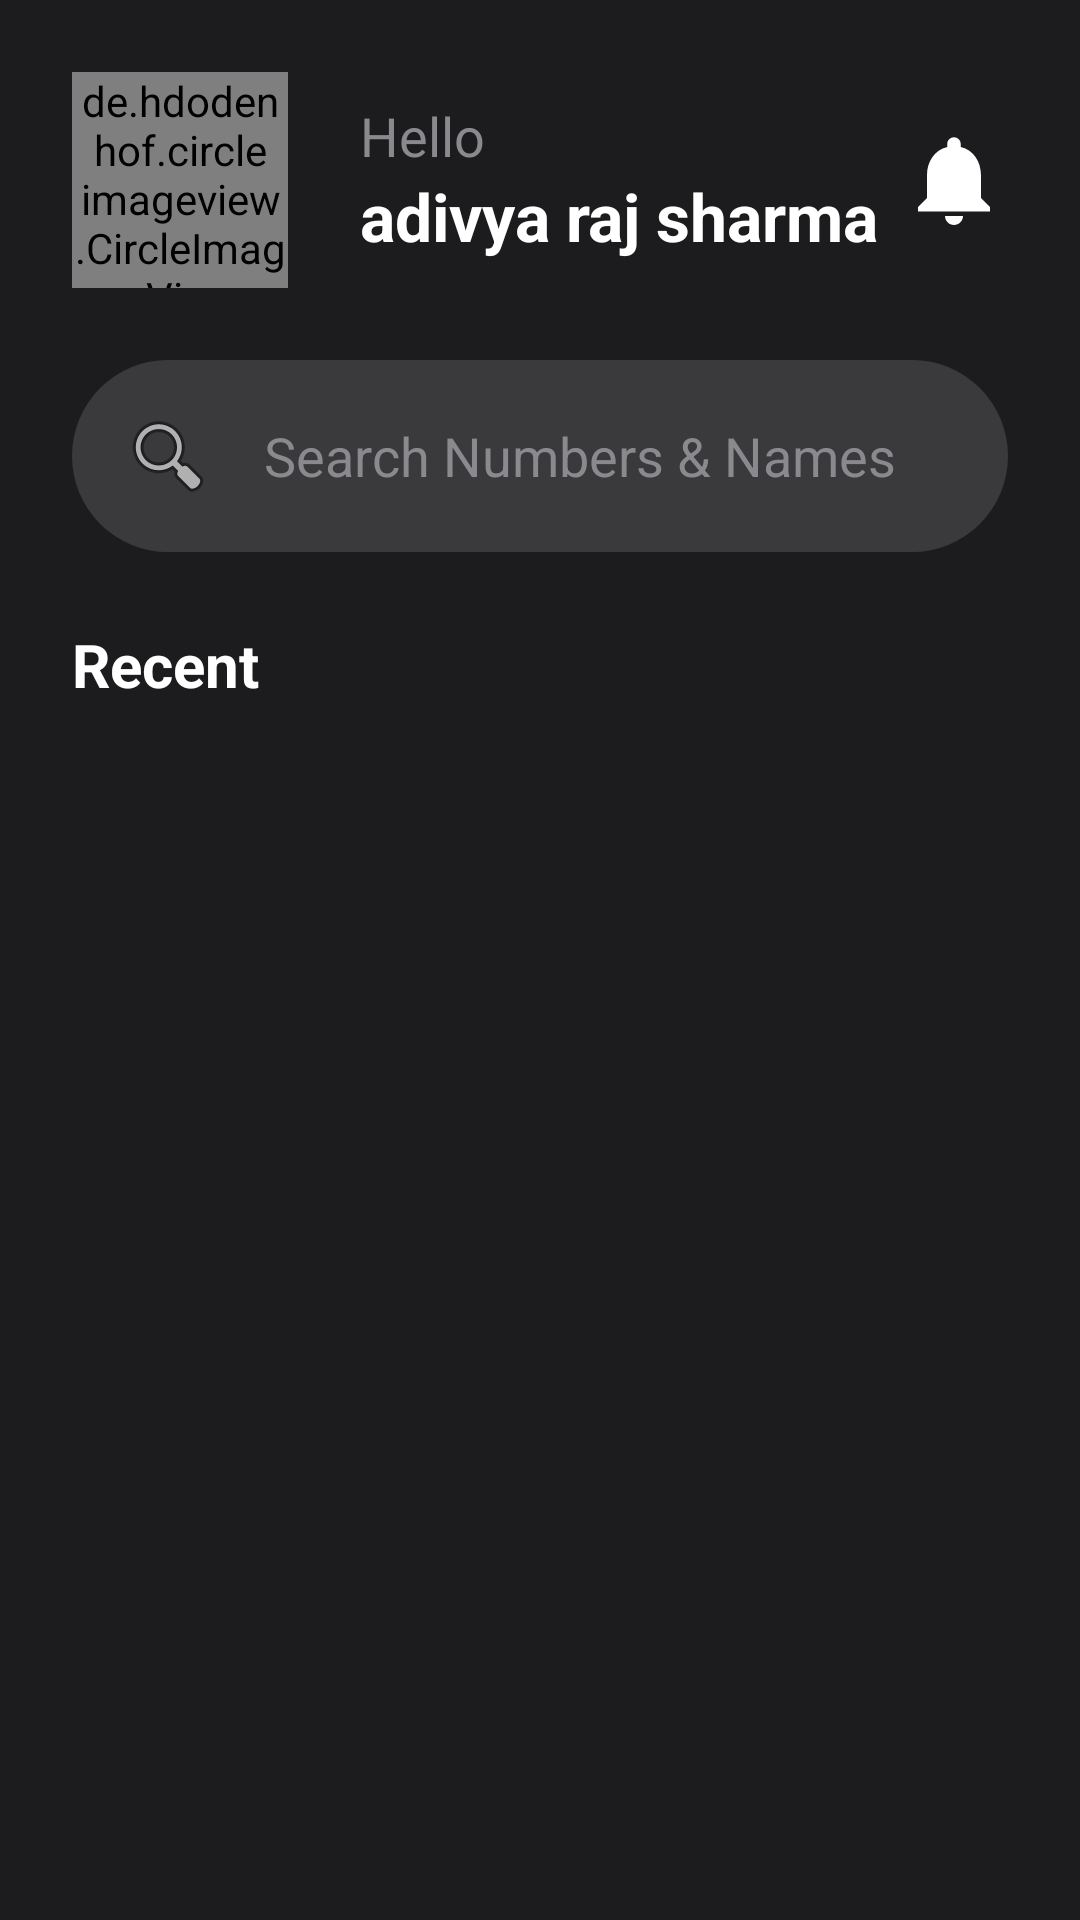

Icons on this 1080w x 1920h Android screen, each with the point to tap as (x=x, y=y):
notifications: (x=954, y=181)
